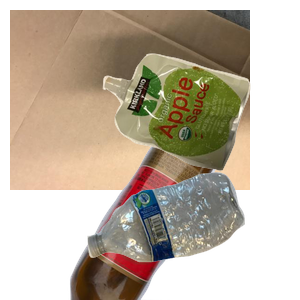cardboard: (10, 10, 250, 190)
glass: (67, 120, 282, 300)
plastic: (85, 170, 300, 300)
trash: (100, 51, 300, 214)
